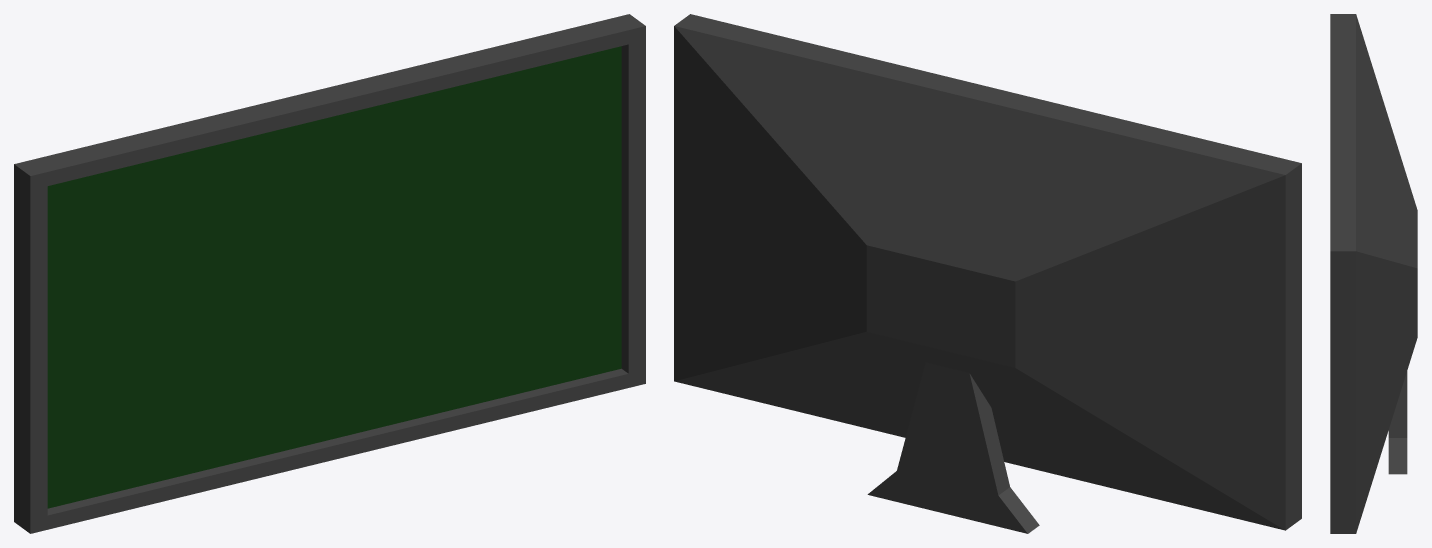
File: Television.fbx
3 renders of one model, left to right at view 1: azimuth 30°, elevation 25°; view 2: azimuth 150°, elevation 25°; view 3: azimuth 270°, elevation 25°, orthographic. The views are drawn at different scales.
Parts seen in each view (by area): view 1: Cube; view 2: Cube, Cube.001; view 3: Cube, Cube.001.
Part boxes in pixels (bbox=[...]): Cube: bbox=[14, 14, 645, 533]; Cube: bbox=[674, 14, 1301, 530]; Cube.001: bbox=[867, 362, 1039, 533]; Cube: bbox=[1330, 14, 1417, 533]; Cube.001: bbox=[1388, 371, 1407, 474].
Size of the model in its own units: 360 by 220 by 56.11.
